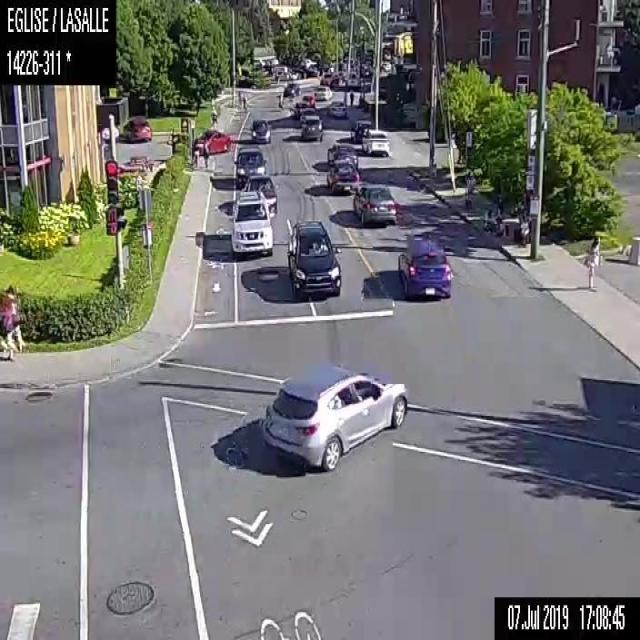pedestrian: (4, 284, 23, 352), (484, 191, 506, 237), (0, 283, 10, 360), (586, 232, 599, 288), (517, 209, 530, 244), (463, 168, 472, 208), (192, 136, 200, 170), (201, 142, 208, 170), (209, 104, 217, 127), (276, 86, 282, 106), (348, 88, 354, 107), (241, 92, 246, 109)
vehicle: (260, 358, 408, 470), (285, 216, 342, 299), (396, 237, 452, 296), (230, 188, 274, 258), (353, 184, 397, 223), (241, 173, 277, 214), (232, 146, 266, 185), (193, 125, 231, 155), (326, 159, 359, 193), (360, 128, 389, 155), (122, 115, 150, 142), (326, 142, 358, 165), (299, 112, 322, 140), (250, 116, 271, 143), (349, 119, 370, 143), (325, 99, 347, 118), (293, 100, 314, 118), (313, 85, 332, 100), (284, 82, 299, 97), (301, 92, 313, 106)
